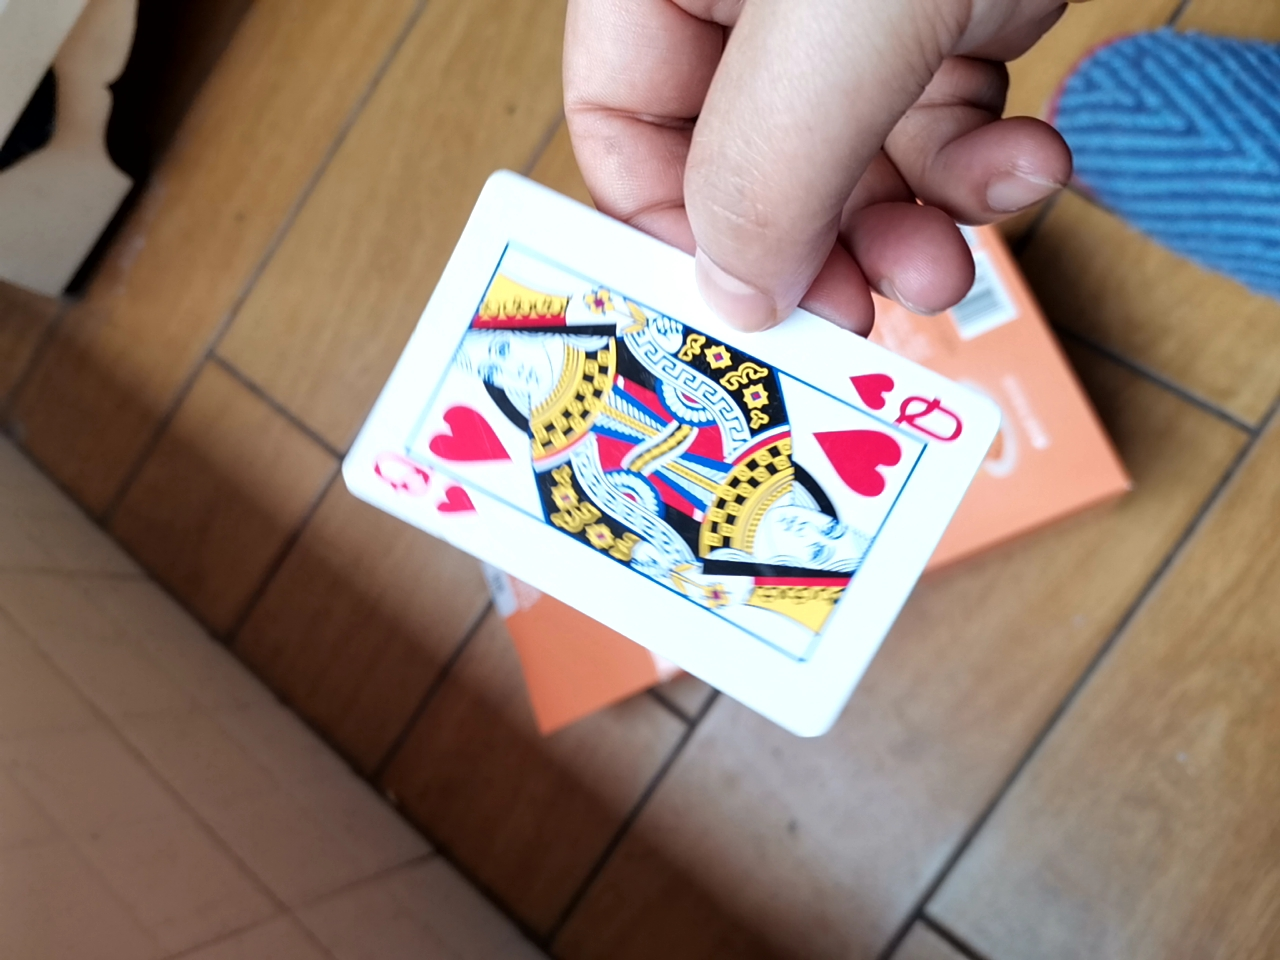hx q: (324, 169, 1002, 755)
